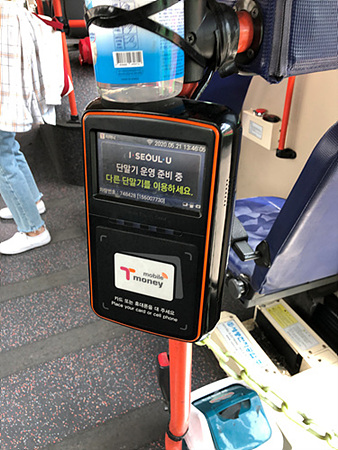terminal: (92, 99, 224, 334)
